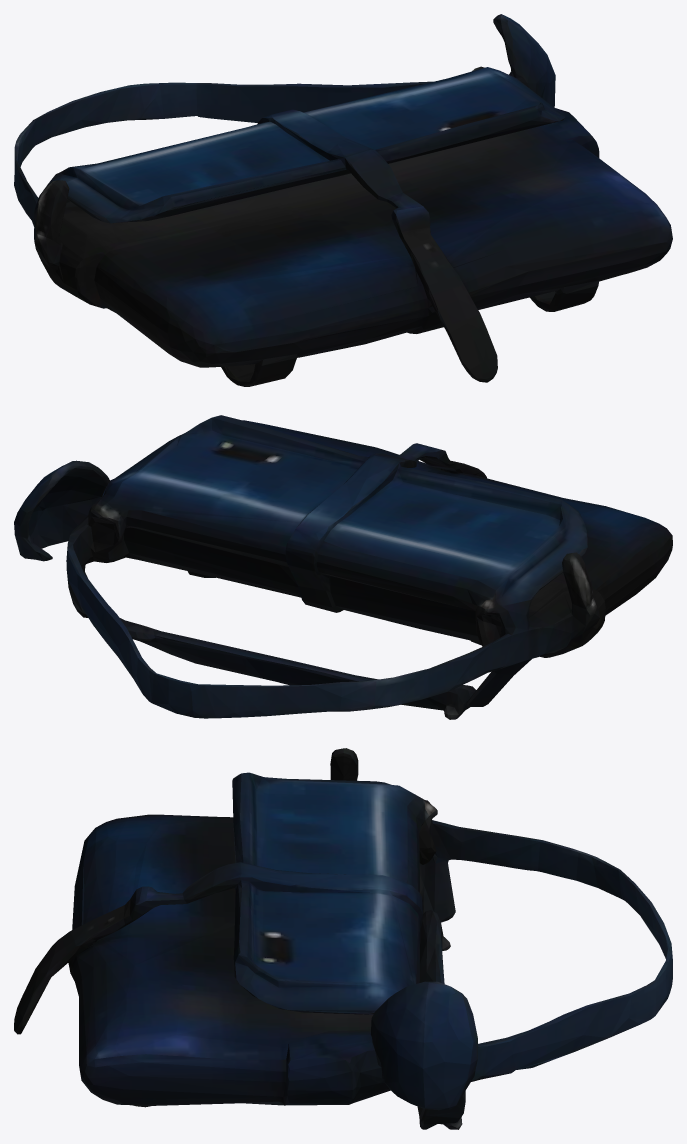
3 views of the same model, one above another, from view 1: azimuth 30°, elevation 25°; view 2: azimuth 150°, elevation 25°; view 3: azimuth 270°, elevation 25° (orthographic). The views are drawn at different scales.
Parts seen in each view (by area): view 1: geometry_0; view 2: geometry_0; view 3: geometry_0.
Part boxes in pixels (bbox=[...]): geometry_0: bbox=[14, 14, 672, 386]; geometry_0: bbox=[14, 415, 672, 719]; geometry_0: bbox=[14, 748, 672, 1129].
Size of the model in its own units: 0.9984 by 0.3101 by 0.9984.
1 material, 1 textured.
